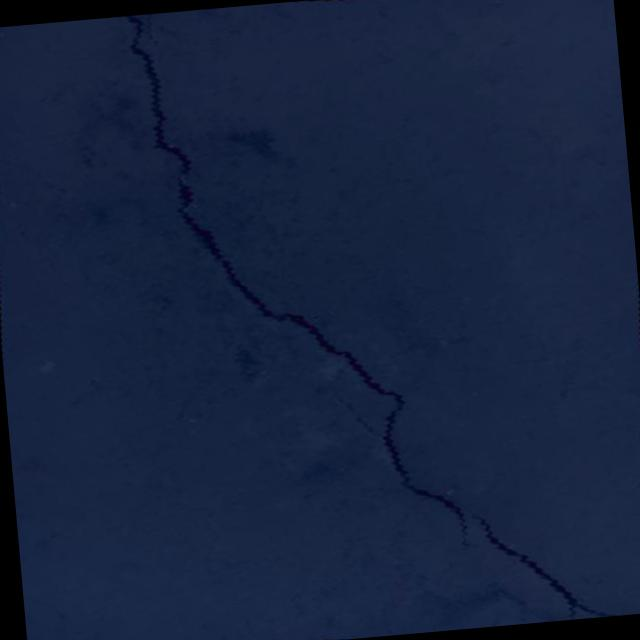crack: (85, 0, 500, 575), (462, 494, 640, 628), (143, 12, 168, 64)
